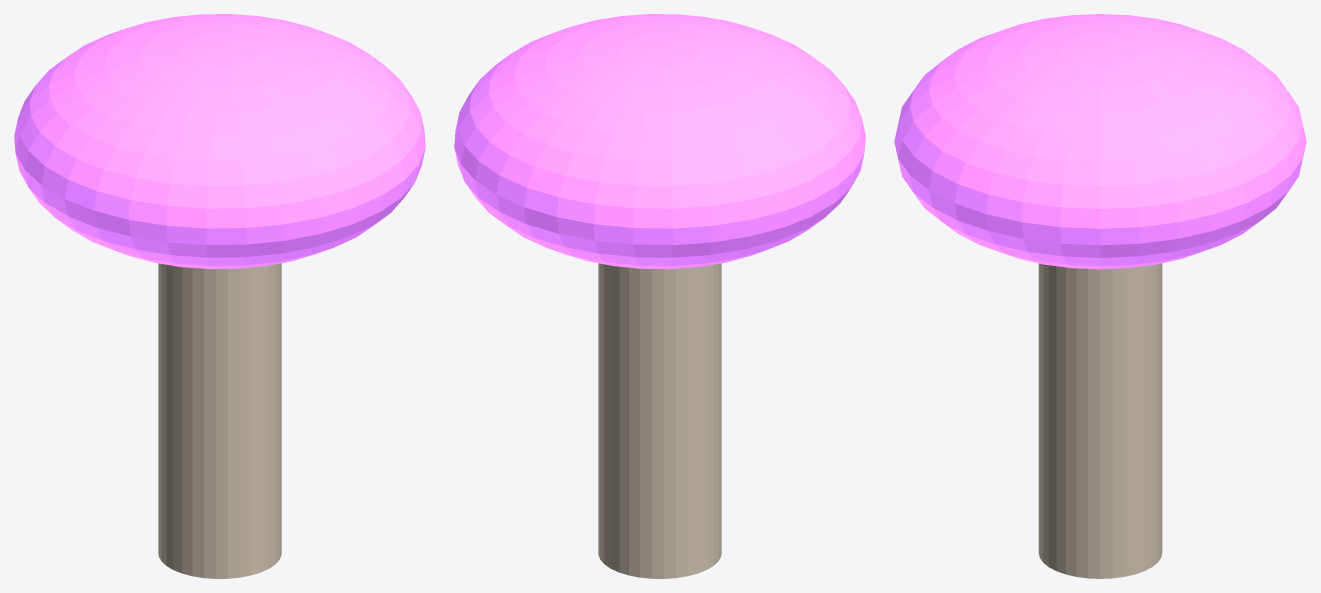
The model's file is mushroom_giant.glb.
The picture shows the model from 3 angles, left to right: view 1: azimuth 30°, elevation 25°; view 2: azimuth 150°, elevation 25°; view 3: azimuth 270°, elevation 25°; orthographic projection.
Parts seen in each view (by area): view 1: Cap; view 2: Cap; view 3: Cap.
Part boxes in pixels (bbox=[...]): Cap: bbox=[14, 14, 425, 578]; Cap: bbox=[454, 14, 865, 578]; Cap: bbox=[894, 14, 1306, 578].
Bounding box in the file's own units: 1 × 1.35 × 1.
